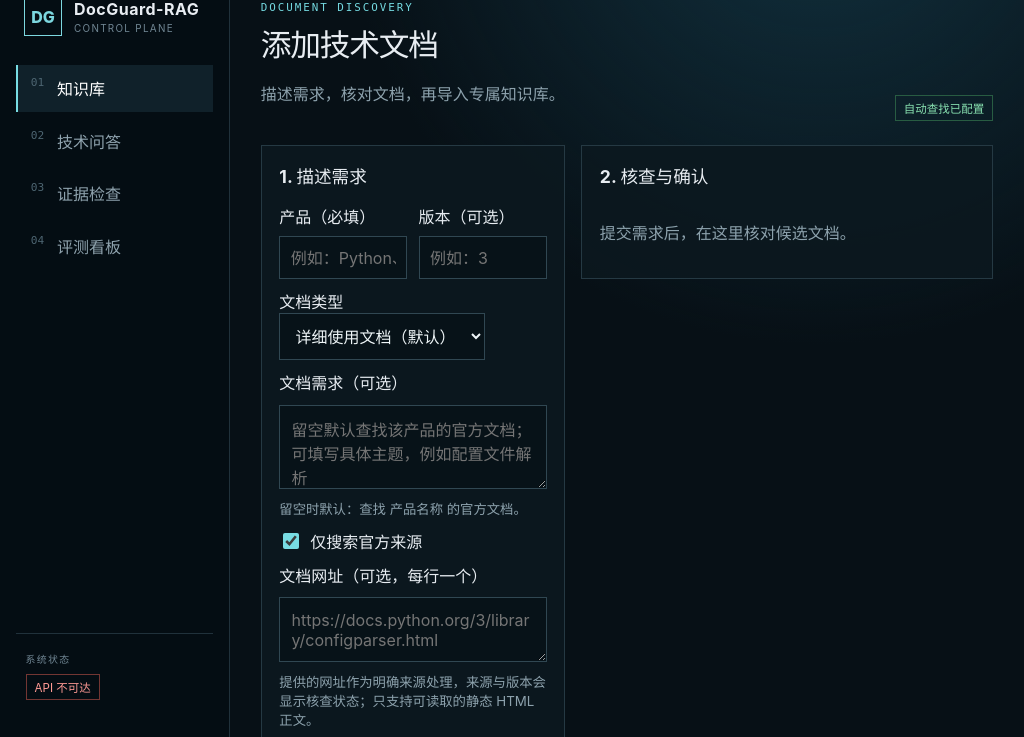
it: keeps in-flight creation and its result when switching pages
Type "Python 文档" into the text box labelled "文档需求（可选）" at (413, 447), box [279, 404, 547, 489]
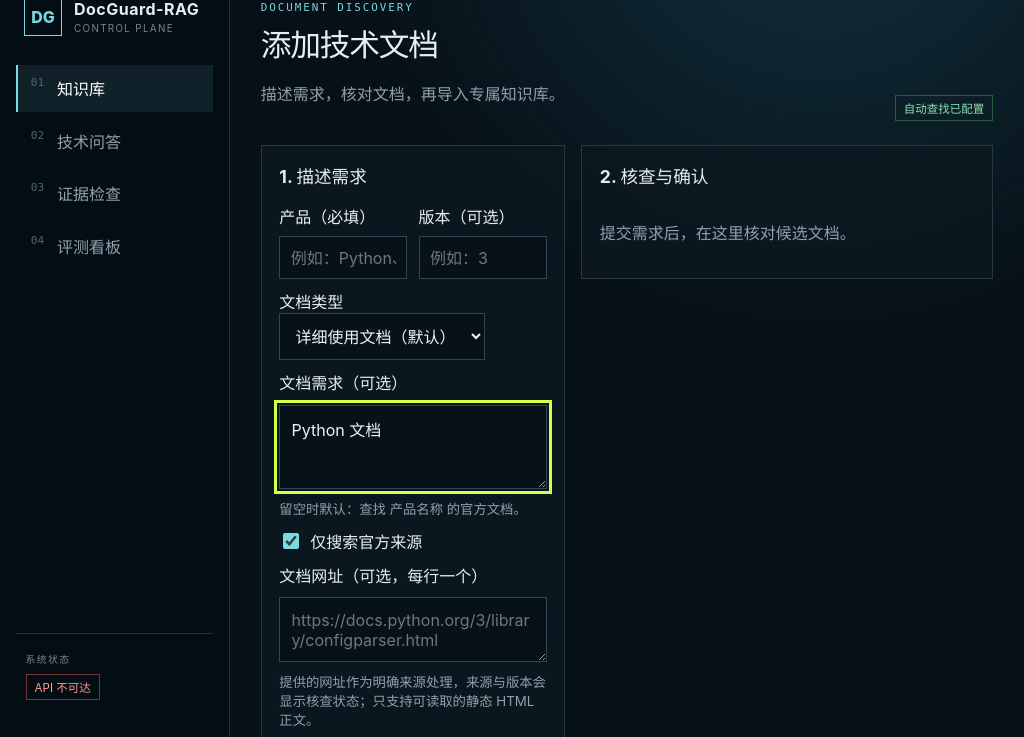
Type "Python" into the field labelled "产品（必填）" at (343, 258), box [279, 236, 407, 279]
(page scrolled)
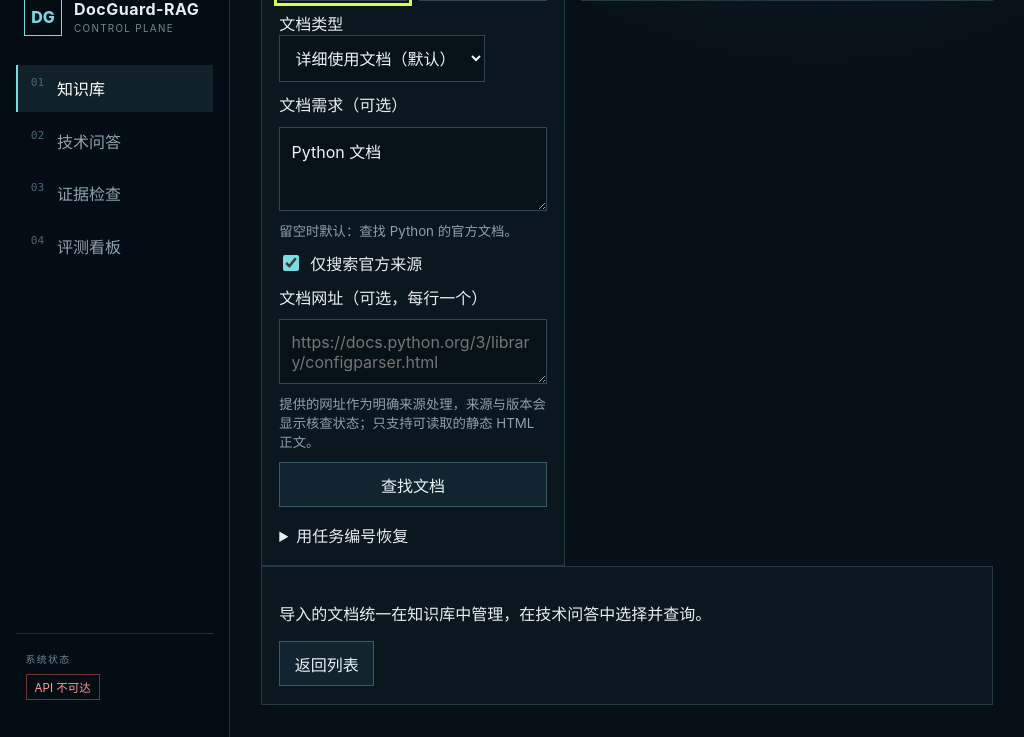
Click the button "查找文档" at (413, 484), box [279, 462, 547, 507]
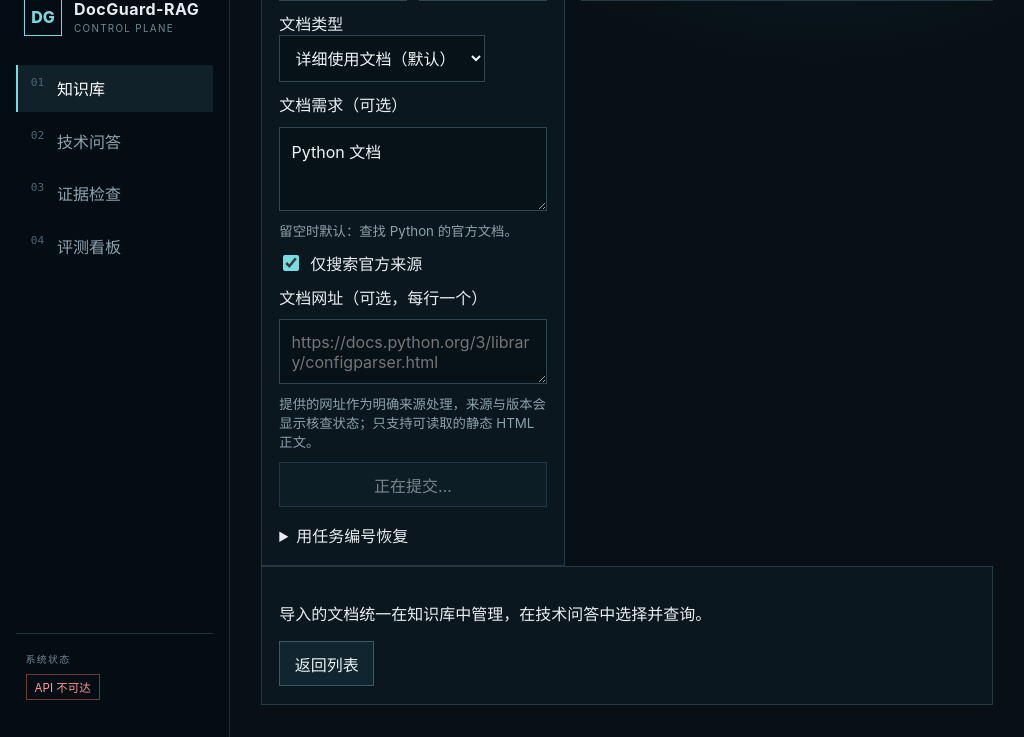
Click the link "02 技术问答" at (76, 140), box [31, 129, 121, 152]
(page scrolled)
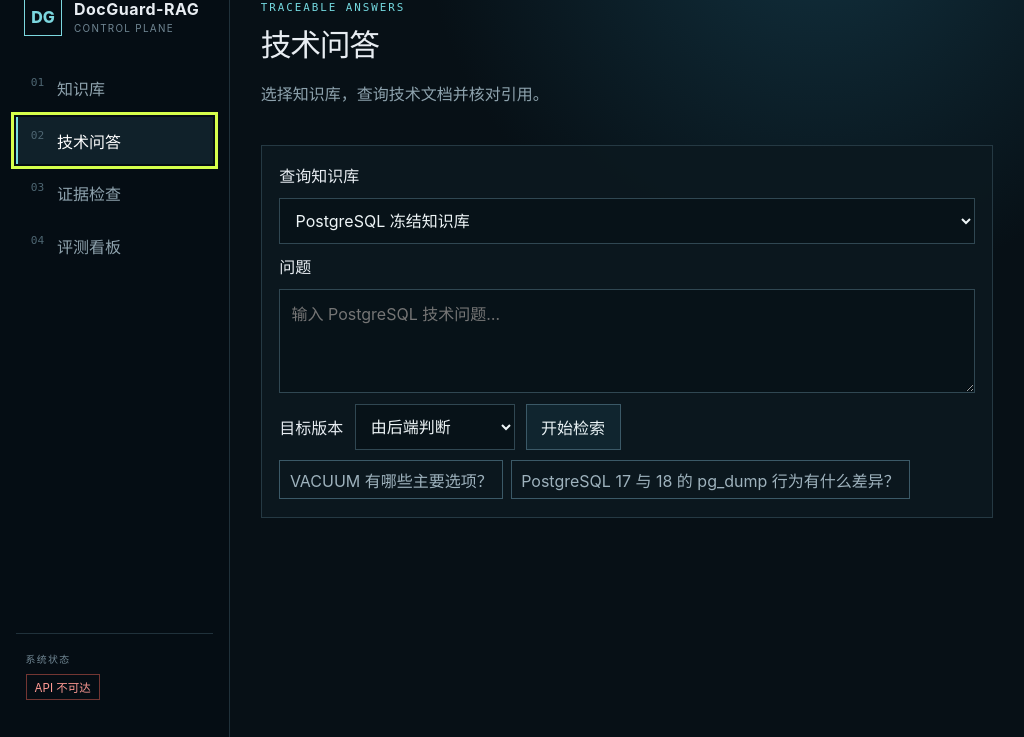
Click the link "01 知识库" at (68, 88), box [31, 76, 105, 99]
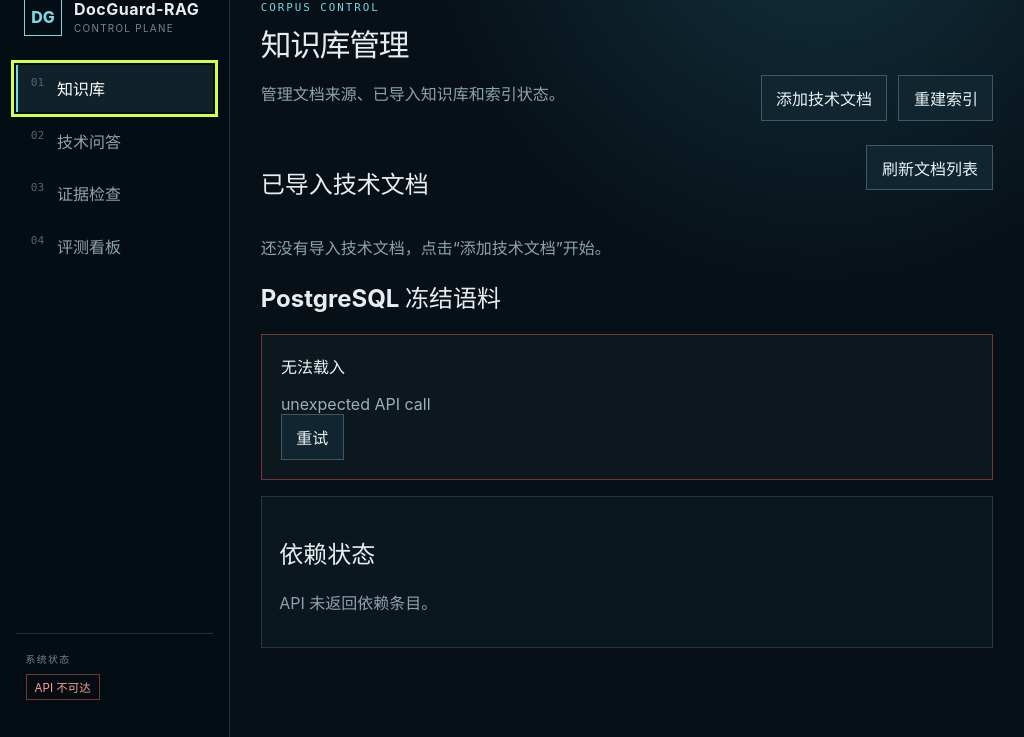
Click the link "添加技术文档" at (824, 98), box [760, 75, 887, 121]
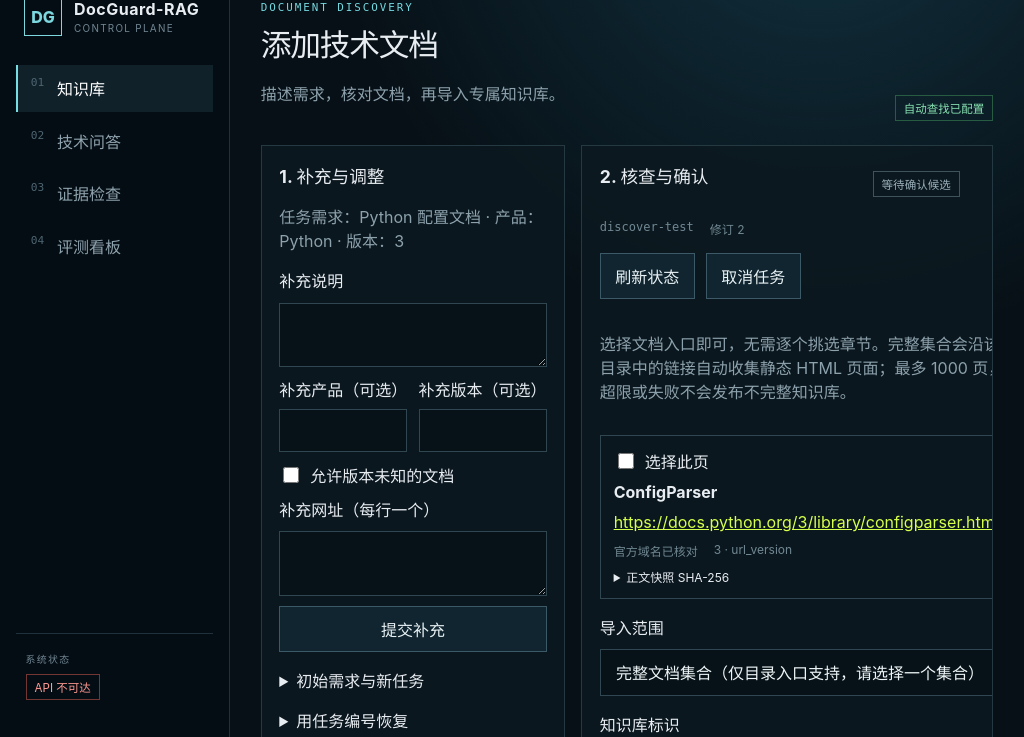
expect the text "ConfigParser" is shown: met, box [614, 482, 717, 502]
expect the text "discover-test" is shown: met, box [600, 220, 694, 237]
